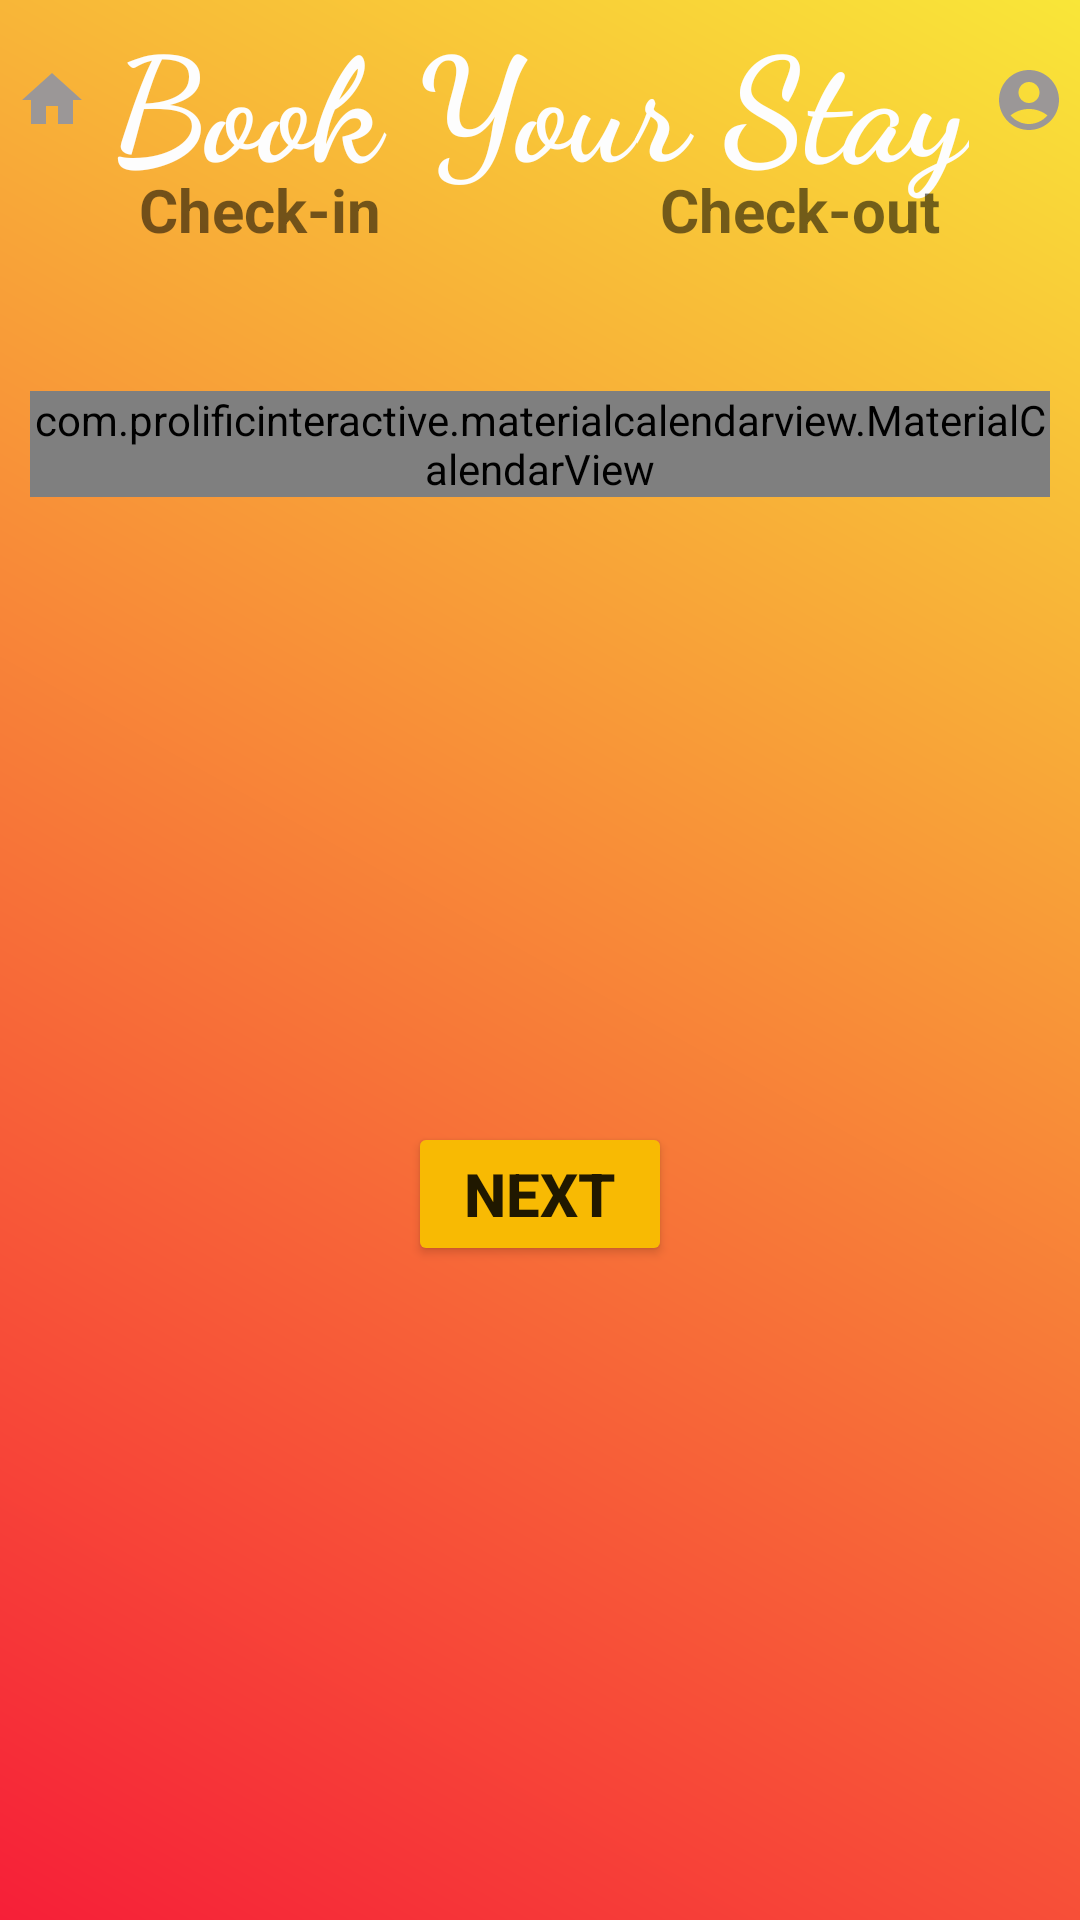

Screen size 1080x1920. Icon name, then its center in pixels as point (x, y):
account: point (1029, 100)
home: point (52, 98)
